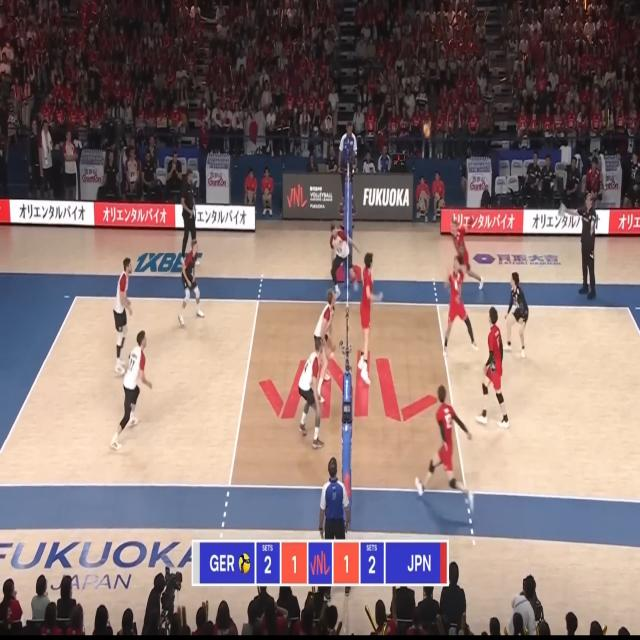ball: (423, 124, 430, 137)
